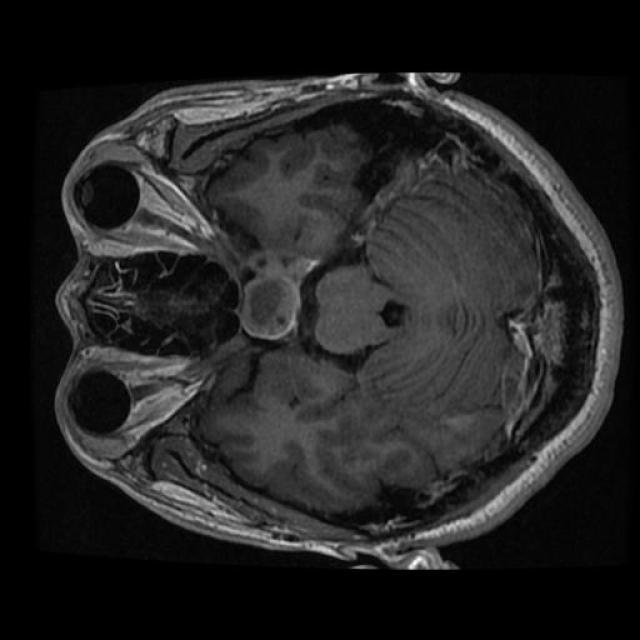Pituitary: (238, 273, 300, 340)
